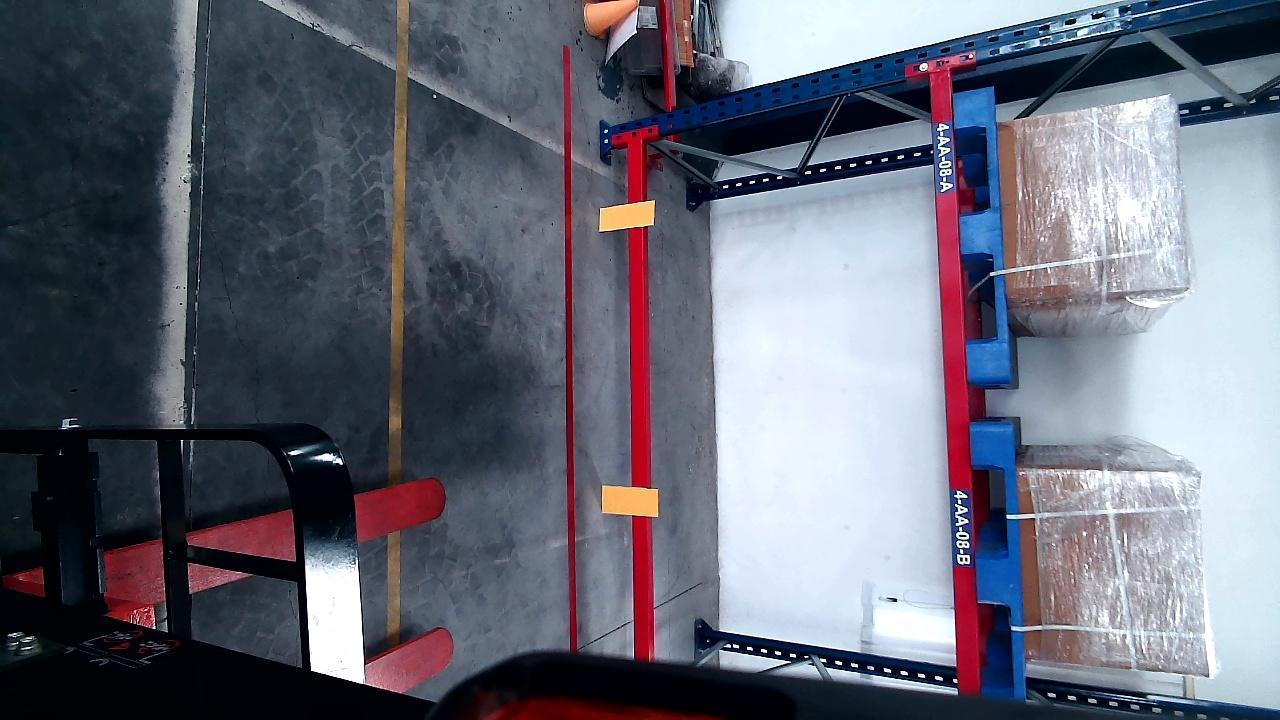h_rack: (929, 68, 981, 692), (623, 137, 653, 655)
orange_strip: (602, 484, 658, 515), (600, 200, 655, 230)
red_line: (558, 46, 584, 650)
small_pallet: (955, 87, 1010, 381), (974, 429, 1026, 688)
yellow_line: (387, 14, 412, 639)
